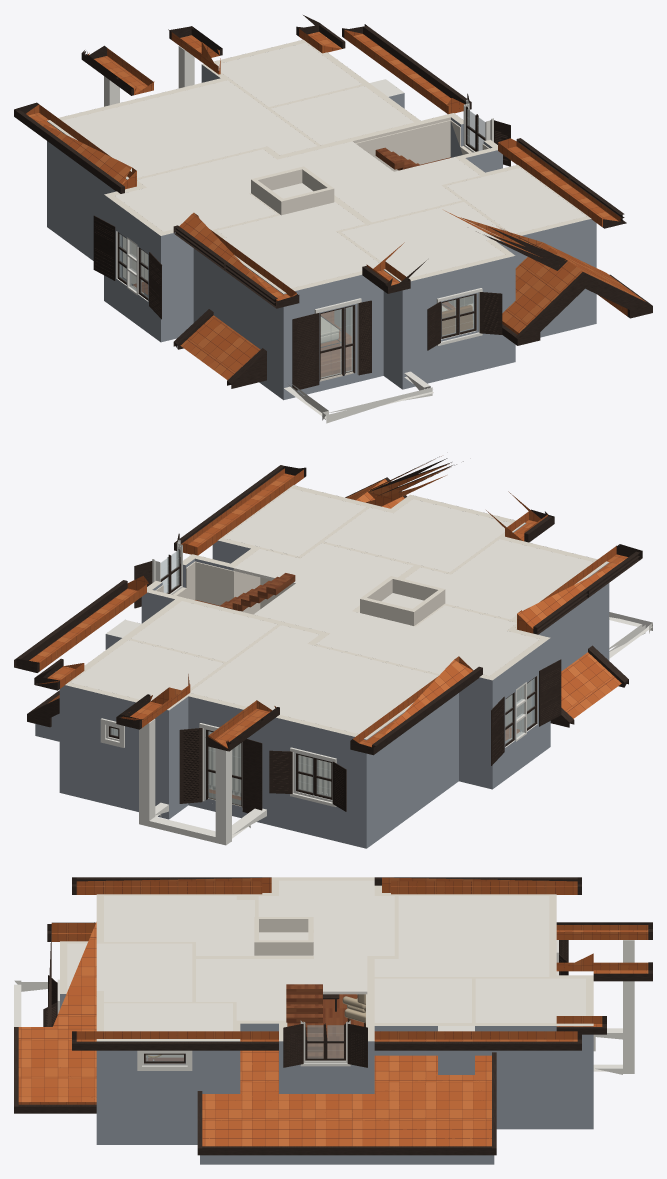
File: villa-f2.glb
3 renders of one model, top to bottom at view 1: azimuth 30°, elevation 25°; view 2: azimuth 150°, elevation 25°; view 3: azimuth 270°, elevation 25°, orthographic. The views are drawn at different scales.
Parts seen in each view (by area): view 1: F2 | KAT 2$TAVAN, F2 | KAT 2$DUVAR, F2 | ÇATII, F2 | ÇATI ALIN, F2 | PENCERE_KAPI$SHUTTER, F2 | PENCERE_KAPI$CAM, F2 | KAT 2$DUVAR KAPLAMA, F2 | ek dalgalar, F2 | PENCERE_KAPI$ÇERÇEVE, F2 | PENCERE_KAPI$SHUTTER AİM, F2 | KAT 2$ZEMİN KAPLAMA, F2 | PENCERE_KAPI$ÇEPHE ÇERÇECE (+2 smaller); view 2: F2 | KAT 2$TAVAN, F2 | KAT 2$DUVAR, F2 | ÇATII, F2 | ÇATI ALIN, F2 | PENCERE_KAPI$SHUTTER, F2 | ek dalgalar, F2 | PENCERE_KAPI$CAM, F2 | KAT 2$DUVAR KAPLAMA, F2 | PENCERE_KAPI$ÇERÇEVE, F2 | PENCERE_KAPI$ÇEPHE ÇERÇECE, F2 | PENCERE_KAPI$CEPHE FRAME, F2 | PENCERE_KAPI$SHUTTER AİM (+6 smaller); view 3: F2 | KAT 2$TAVAN, F2 | ÇATII, F2 | KAT 2$DUVAR, F2 | ÇATI ALIN, F2 | ek dalgalar, F2 | PENCERE_KAPI$SHUTTER, F2 | KAT 2$MERDİVEN, F2 | PENCERE_KAPI$CAM, F2 | KAT 2$ZEMİN KAPLAMA, F2 | PENCERE_KAPI$CEPHE FRAME, Lift shaft side wall.005, Lift shaft side wall.004 (+3 smaller).
Part boxes in pixels (<box>): F2 | KAT 2$TAVAN: <box>62,43,585,288</box>; F2 | KAT 2$DUVAR: <box>47,39,596,400</box>; F2 | ÇATII: <box>26,29,645,379</box>; F2 | ÇATI ALIN: <box>14,15,652,388</box>; F2 | PENCERE_KAPI$SHUTTER: <box>93,93,510,390</box>; F2 | PENCERE_KAPI$CAM: <box>119,109,485,378</box>; F2 | KAT 2$DUVAR KAPLAMA: <box>123,120,489,335</box>; F2 | ek dalgalar: <box>104,46,433,423</box>; F2 | PENCERE_KAPI$ÇERÇEVE: <box>117,106,485,380</box>; F2 | PENCERE_KAPI$SHUTTER AİM: <box>95,130,507,387</box>; F2 | KAT 2$ZEMİN KAPLAMA: <box>133,282,454,375</box>; F2 | PENCERE_KAPI$ÇEPHE ÇERÇECE: <box>116,104,490,372</box>; F2 | KAT 2$TAVAN: <box>71,488,593,733</box>; F2 | KAT 2$DUVAR: <box>35,485,609,848</box>; F2 | ÇATII: <box>29,456,627,748</box>; F2 | ÇATI ALIN: <box>14,456,642,755</box>; F2 | PENCERE_KAPI$SHUTTER: <box>134,533,561,813</box>; F2 | ek dalgalar: <box>106,612,652,845</box>; F2 | PENCERE_KAPI$CAM: <box>110,549,534,805</box>; F2 | KAT 2$DUVAR KAPLAMA: <box>155,561,530,739</box>; F2 | PENCERE_KAPI$ÇERÇEVE: <box>108,549,536,807</box>; F2 | PENCERE_KAPI$ÇEPHE ÇERÇECE: <box>106,544,537,810</box>; F2 | PENCERE_KAPI$CEPHE FRAME: <box>100,539,336,806</box>; F2 | PENCERE_KAPI$SHUTTER AİM: <box>183,668,560,805</box>; F2 | KAT 2$TAVAN: <box>67,880,585,1031</box>; F2 | ÇATII: <box>18,877,648,1146</box>; F2 | KAT 2$DUVAR: <box>60,877,593,1164</box>; F2 | ÇATI ALIN: <box>14,877,652,1155</box>; F2 | ek dalgalar: <box>14,940,634,1074</box>; F2 | PENCERE_KAPI$SHUTTER: <box>43,922,568,1067</box>; F2 | KAT 2$MERDİVEN: <box>286,984,322,1057</box>; F2 | PENCERE_KAPI$CAM: <box>145,1025,343,1061</box>; F2 | KAT 2$ZEMİN KAPLAMA: <box>323,994,363,1057</box>; F2 | PENCERE_KAPI$CEPHE FRAME: <box>57,940,595,1070</box>; Lift shaft side wall.005: <box>254,940,313,955</box>; Lift shaft side wall.004: <box>254,917,313,932</box>.
Size of the model in its own units: 12.19 by 5.63 by 17.37.
37 materials, 37 textured.
